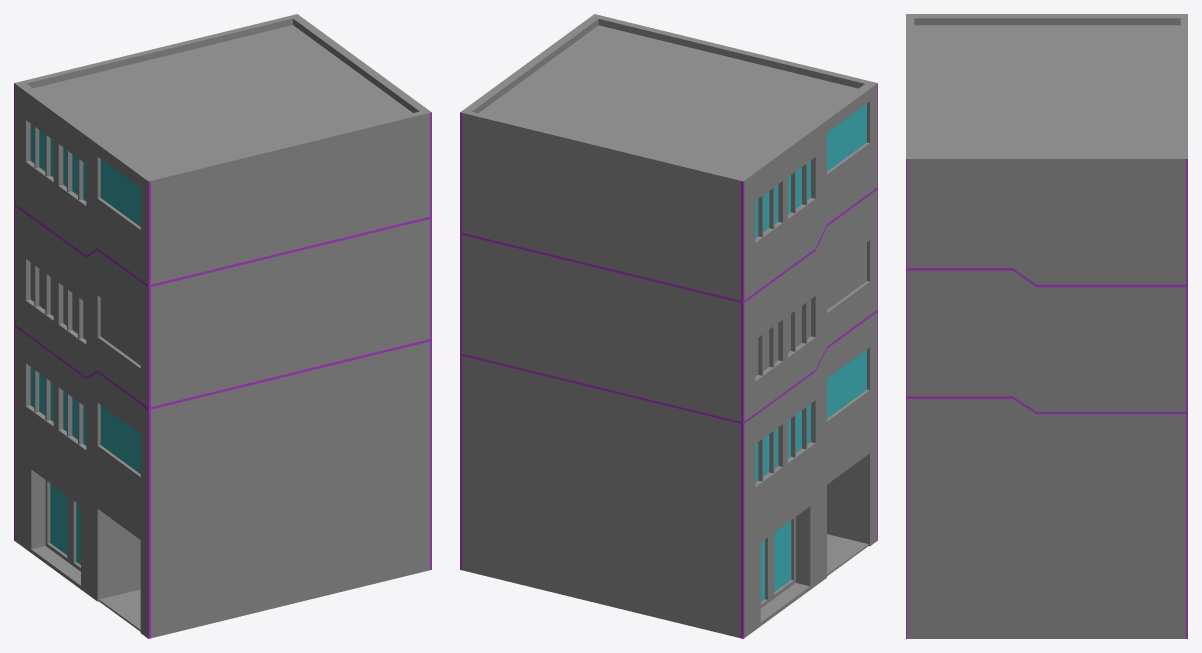
The model's file is buildings_S_04_VAR2 1.fbx.
The picture shows the model from 3 angles, left to right: view 1: azimuth 30°, elevation 25°; view 2: azimuth 150°, elevation 25°; view 3: azimuth 270°, elevation 25°; orthographic projection. The views are drawn at different scales.
Visible parts, largest first — view 1: buildings_S_04_VAR2; view 2: buildings_S_04_VAR2; view 3: buildings_S_04_VAR2.
Boxes of the visible parts, left/top/right/bottom form: buildings_S_04_VAR2: left=14, top=14, right=431, bottom=638; buildings_S_04_VAR2: left=460, top=14, right=877, bottom=638; buildings_S_04_VAR2: left=906, top=14, right=1187, bottom=638.
Size of the model in its own units: 9.79 by 15.11 by 8.05.
